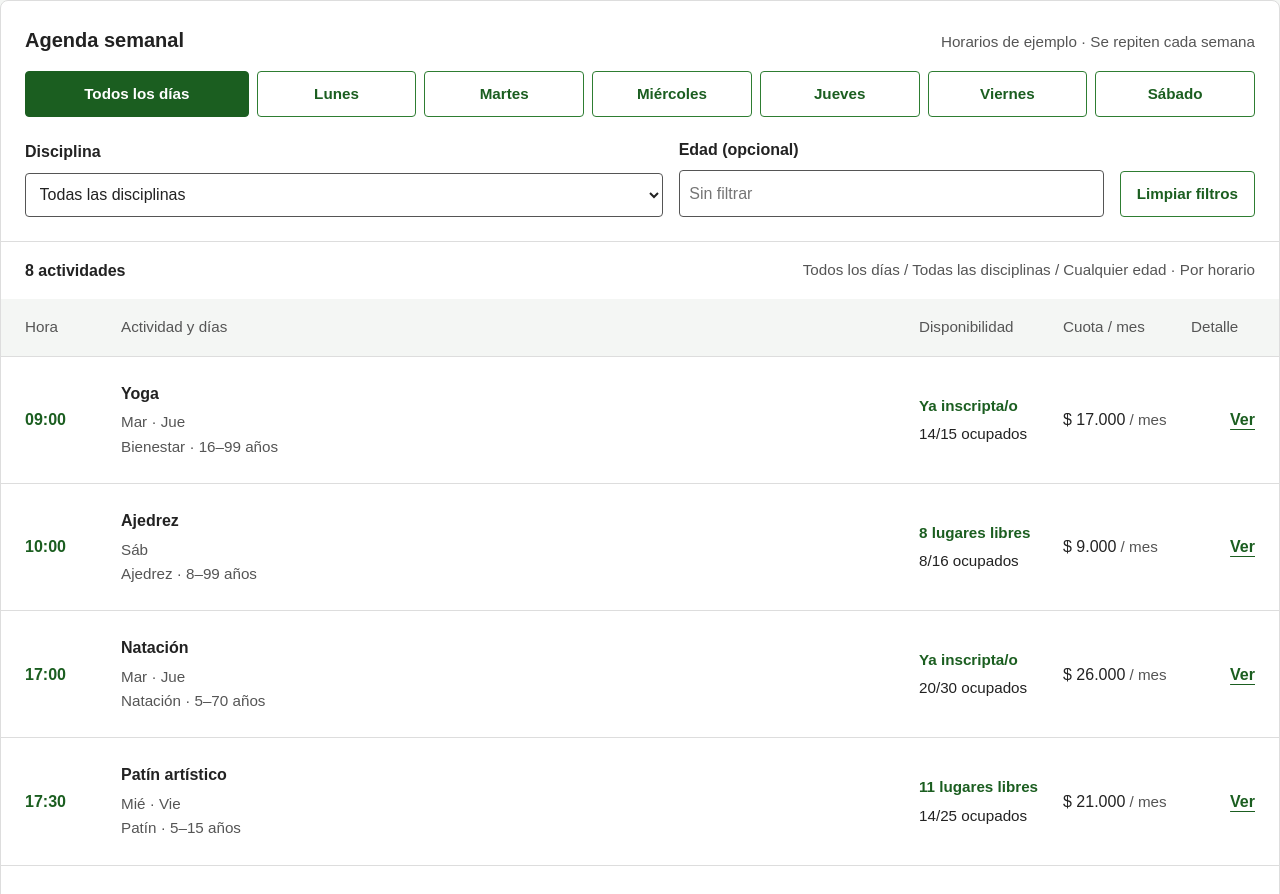
Test case: la edad de búsqueda no sustituye la edad real para inscribirse
The image size is (1280, 894).
Select "Fútbol" in the dropdown labelled "Disciplina" at (344, 195), box [25,173,663,217]
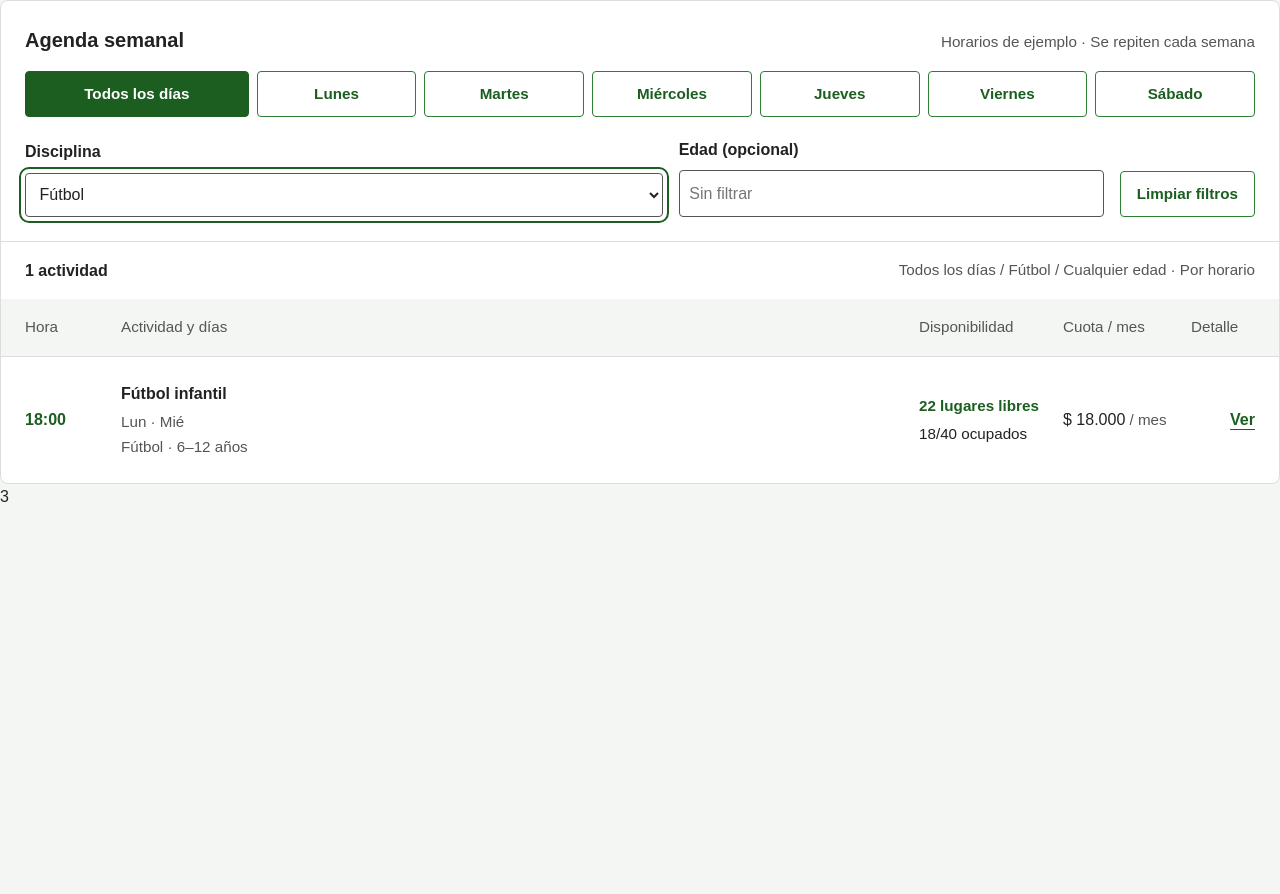
Type "10" into the number field labelled "Edad (opcional)" at (891, 194), box [679,170,1104,217]
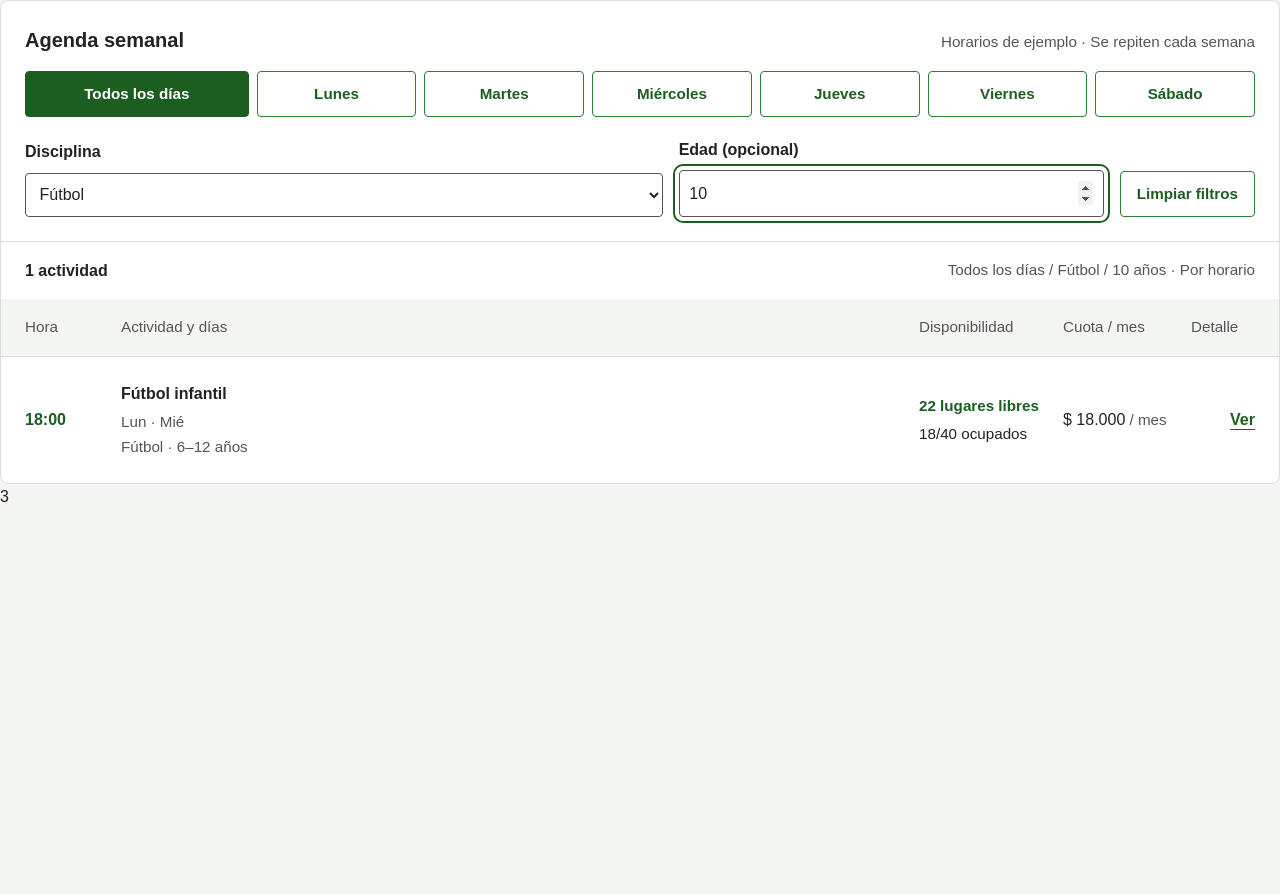
Click the link with aria-label "Ver detalle de Fútbol infantil" at (1243, 420), box [1230,411,1255,428]
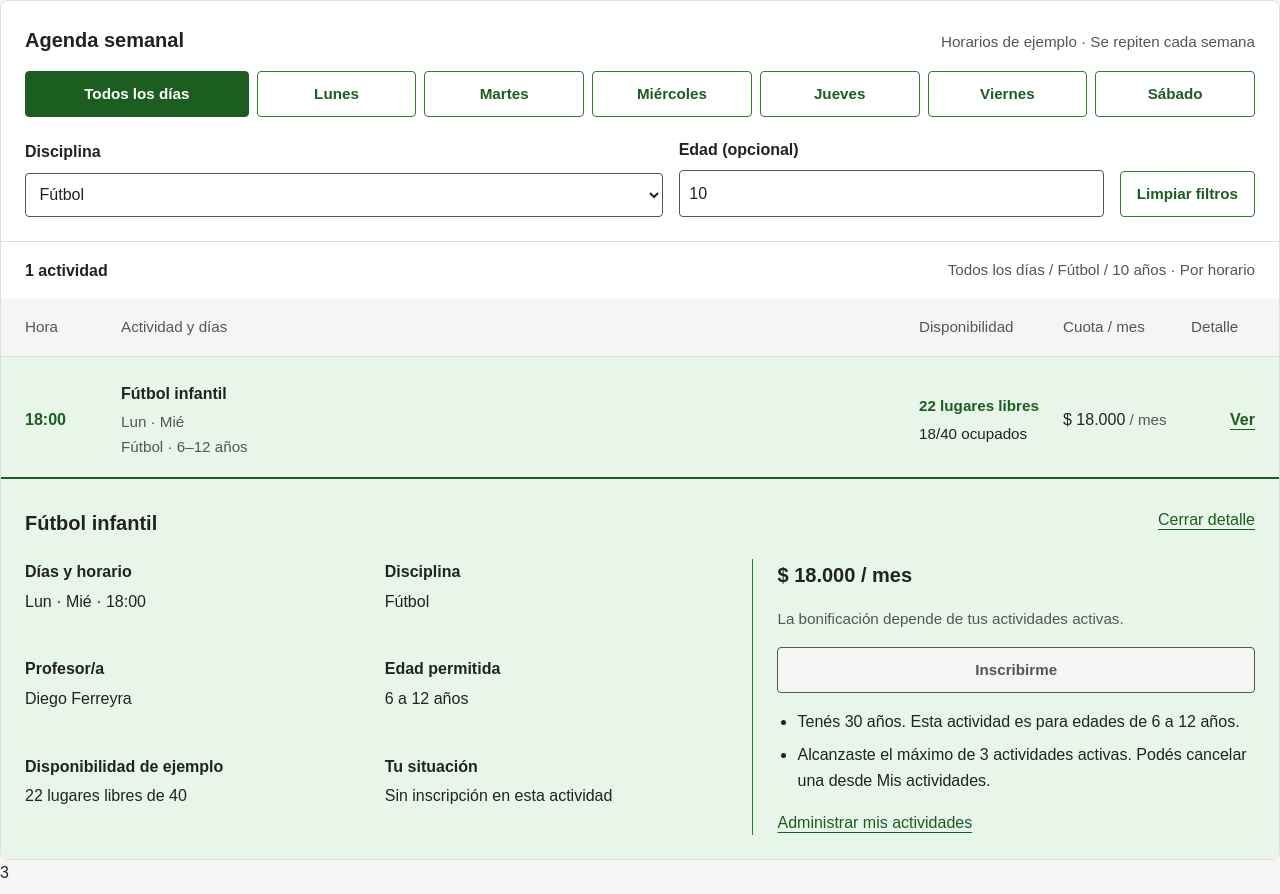
Expected: the text named "Actividades seleccionadas" reads "3", [0,864,9,881]
Now the button "Inscribirme" is disabled, box [778,647,1255,693]
Now the list item "Tenés 30 años. Esta actividad es para edades de 6 a 12 años." is shown, box [798,709,1255,734]
